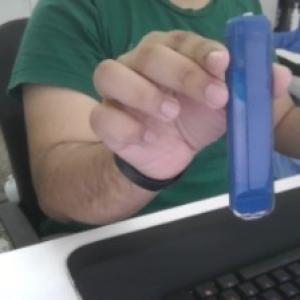Diamond-E-Ciggirate: (224, 12, 278, 223)
